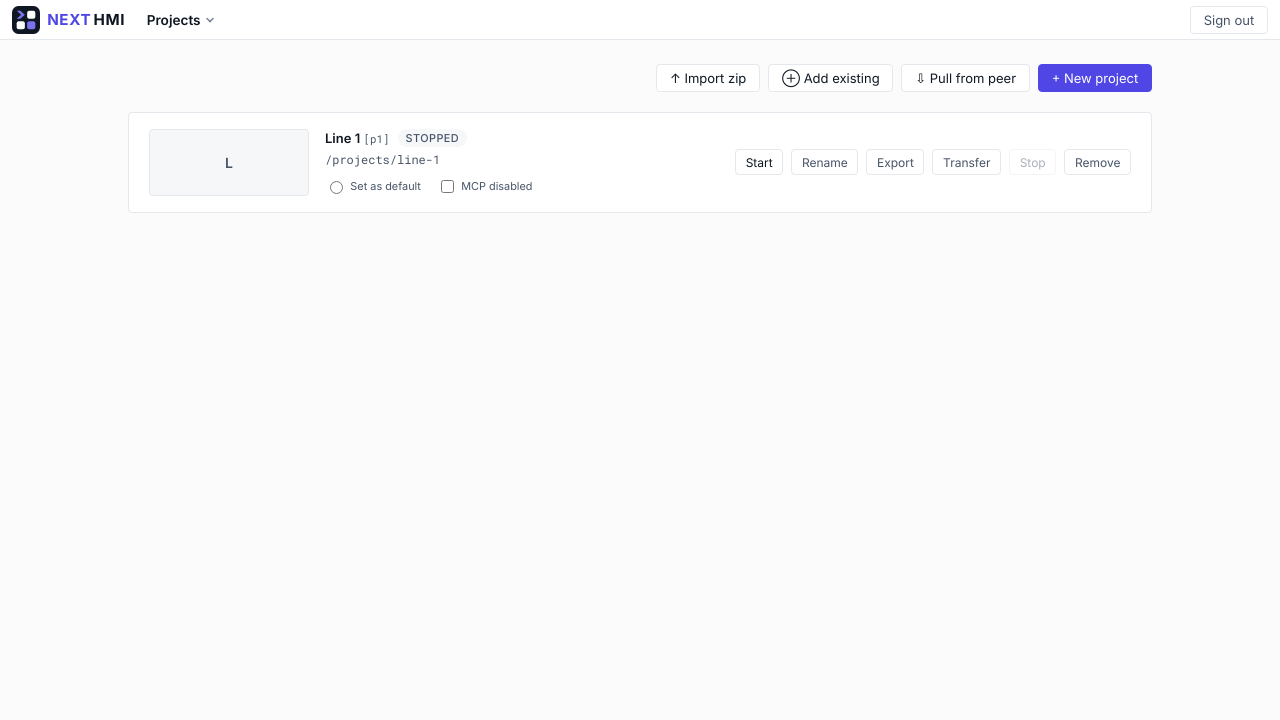
projects dashboard › sends only the changed fields from the rename dialog
Click the button "Rename": (825, 162) top-left (791, 149), bottom-right (858, 175)
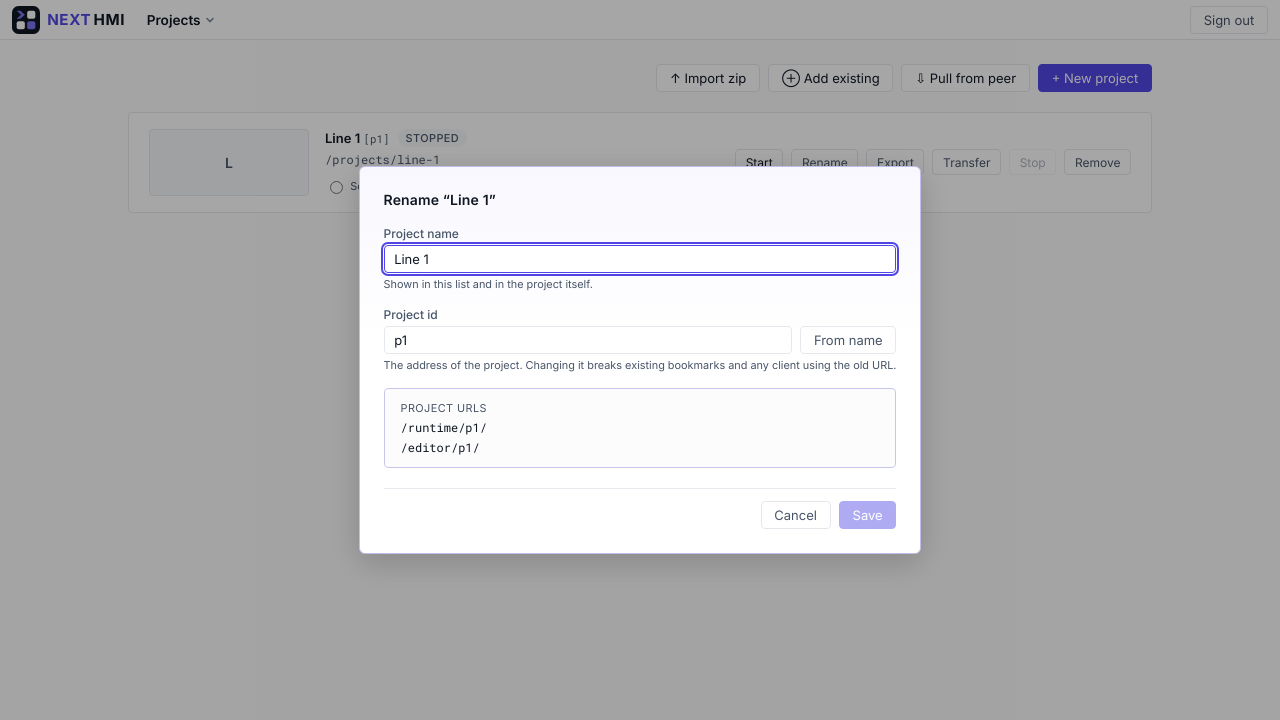
Result: the element with class "cfg-modal" is shown at top-left (358, 166), bottom-right (921, 554)
Replace the text in the field with placeholder "Plant A" with "Line 2": (640, 259) top-left (384, 245), bottom-right (896, 273)
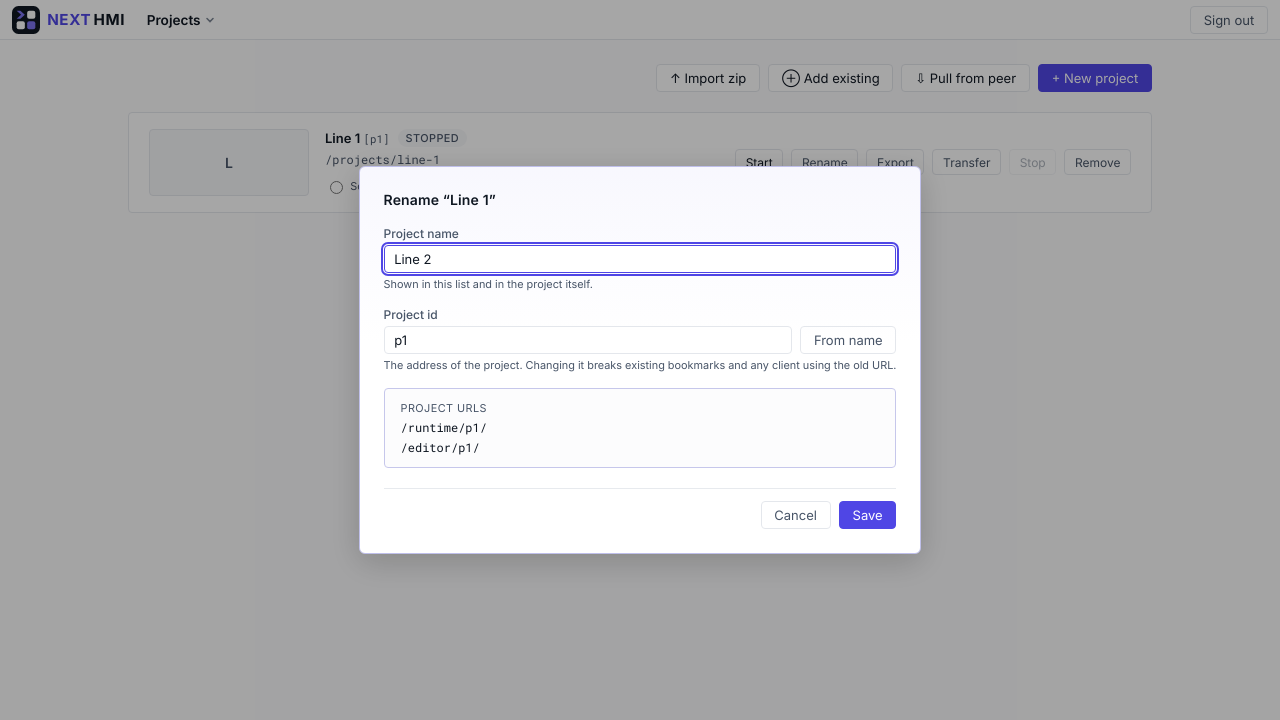
Click the button "Save": (868, 515) top-left (839, 501), bottom-right (896, 529)
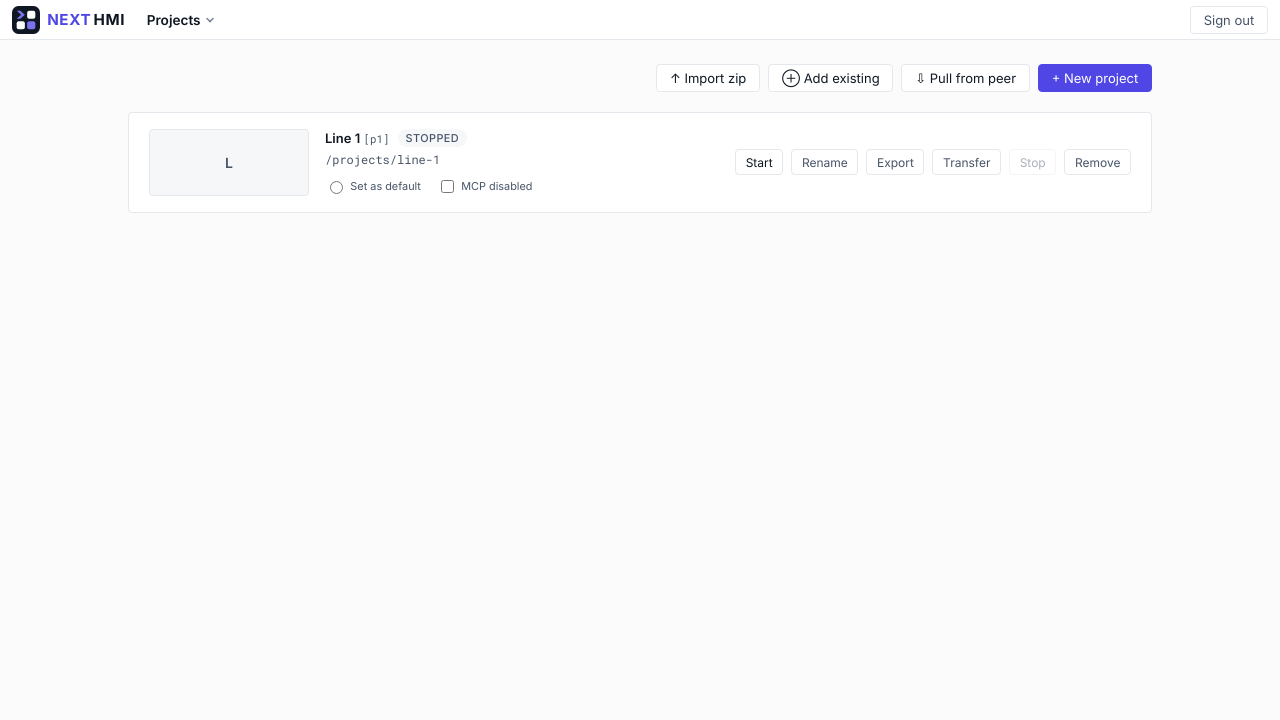
Result: the element with class "cfg-modal" is gone
